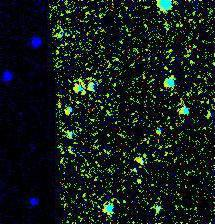star: (70, 78, 100, 108)
